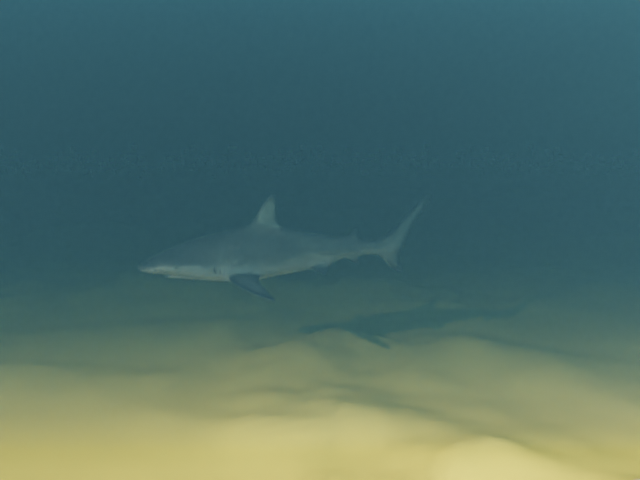Carribean Shark.001: (137, 194, 431, 301)
